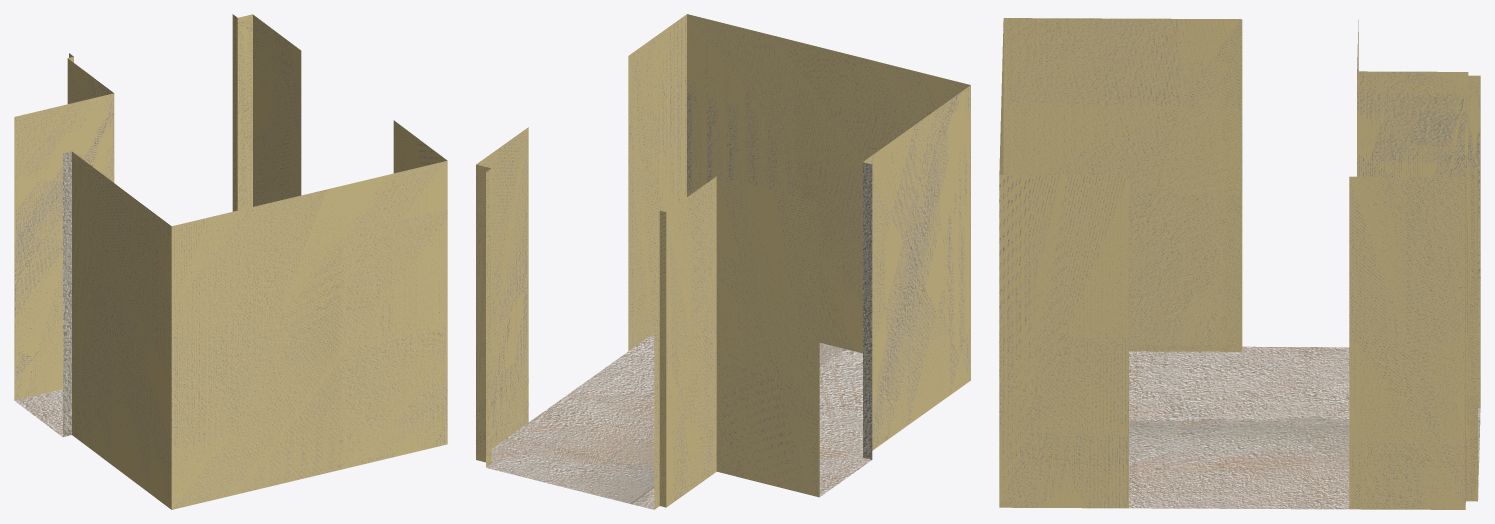
File: COM031.obj
3 views of the same model, side by side, from view 1: azimuth 30°, elevation 25°; view 2: azimuth 150°, elevation 25°; view 3: azimuth 270°, elevation 25° (orthographic). The views are drawn at different scales.
Parts seen in each view (by area): view 1: Mesh1 COM031 Model; view 2: Mesh1 COM031 Model; view 3: Mesh1 COM031 Model.
Part boxes in pixels (box(x1,y1,x2,y2)): Mesh1 COM031 Model: box(14, 14, 447, 509); Mesh1 COM031 Model: box(476, 14, 970, 509); Mesh1 COM031 Model: box(999, 18, 1480, 509).
Bounding box in the file's own units: 3.16 × 3 × 3.93.
Materials: 5 (3 with a texture image).
